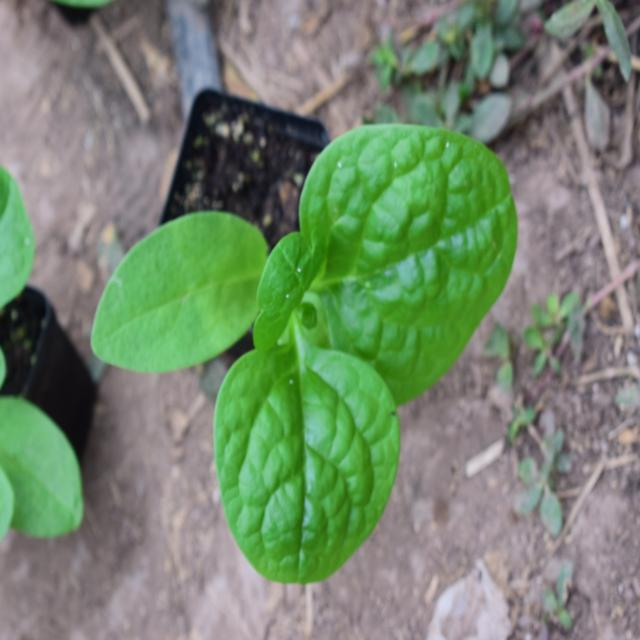Ceylon spinach: (116, 102, 535, 570)
